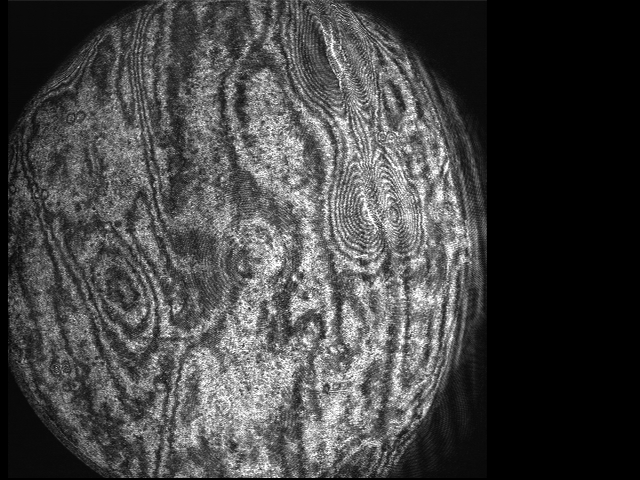plume: (332, 163, 421, 266)
